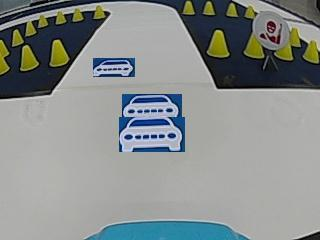evil: (252, 12, 289, 49)
